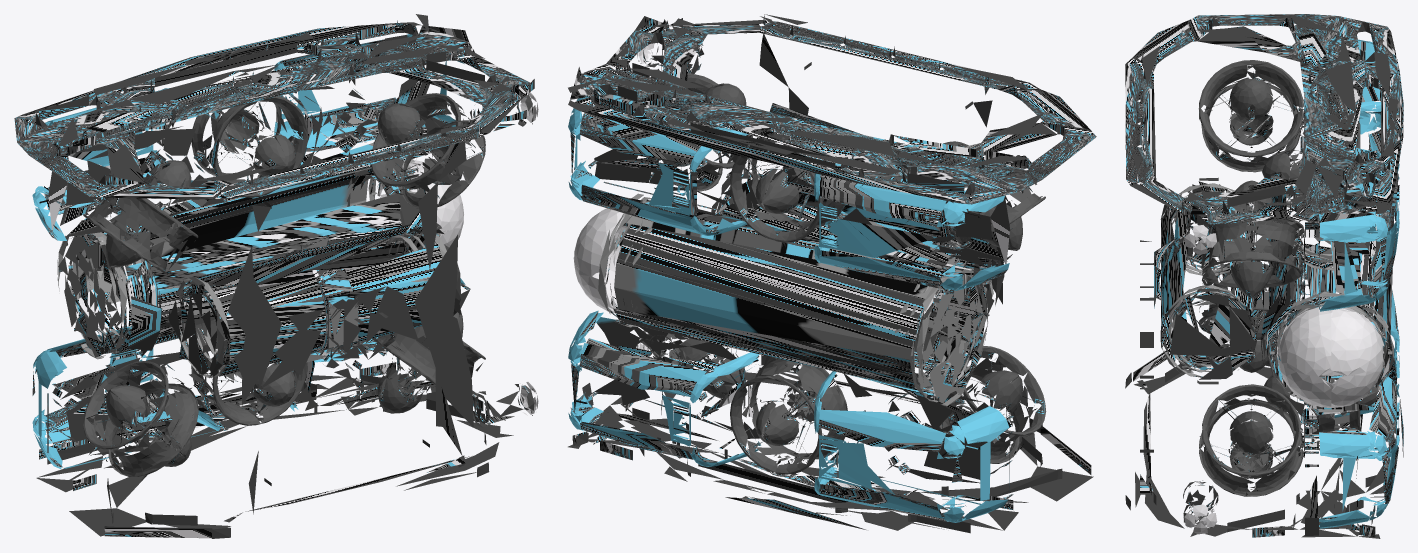
The model's file is bluerov2_lod.obj.
3 renders of one model, left to right at view 1: azimuth 30°, elevation 25°; view 2: azimuth 150°, elevation 25°; view 3: azimuth 270°, elevation 25°, orthographic. The views are drawn at different scales.
Bounding box in the file's own units: 0.4574 × 0.338 × 0.2552.
1 material, 1 textured.
